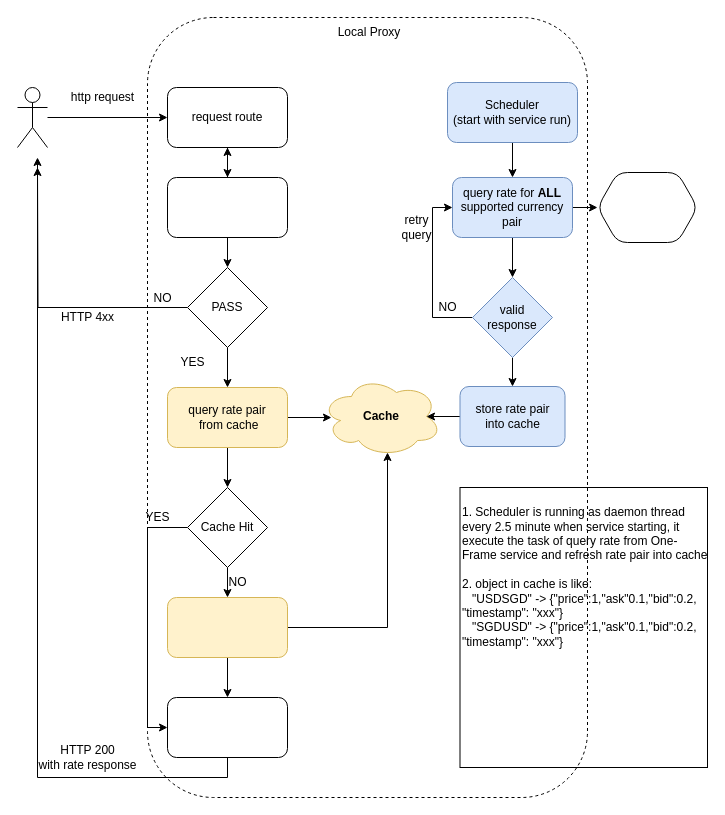
The diagram is 725 pixels wide and 815 high, and some of its shapes have lost their labels. Here are the shapes that lost their labels. From the top down, the box of each, then its label:
(16, 86, 48, 148): User
(166, 176, 288, 238): parameter and token valiation
(596, 172, 698, 242): One-Frame Service
(166, 596, 288, 658): refresh cache
(166, 696, 288, 758): assemble response by cache result
